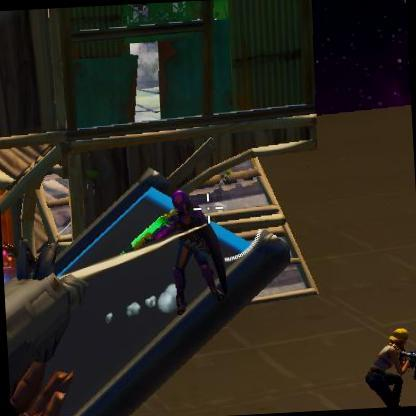person: (160, 187, 228, 308), (360, 324, 416, 407), (371, 326, 416, 406)
